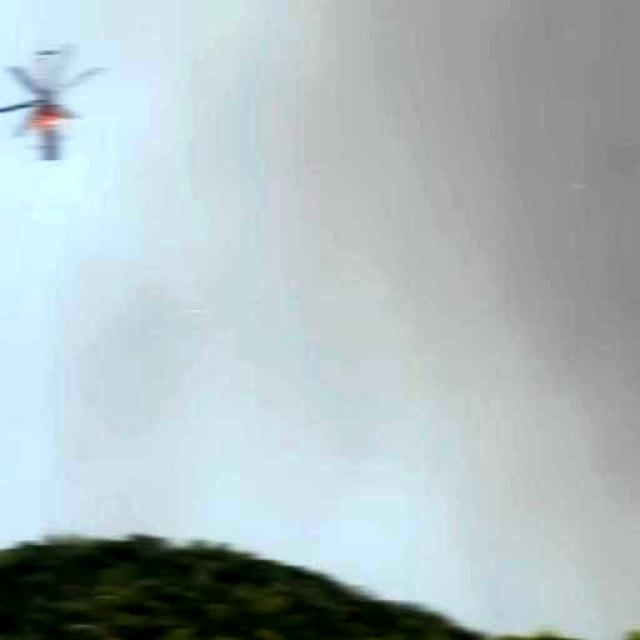drone: (0, 36, 108, 170)
